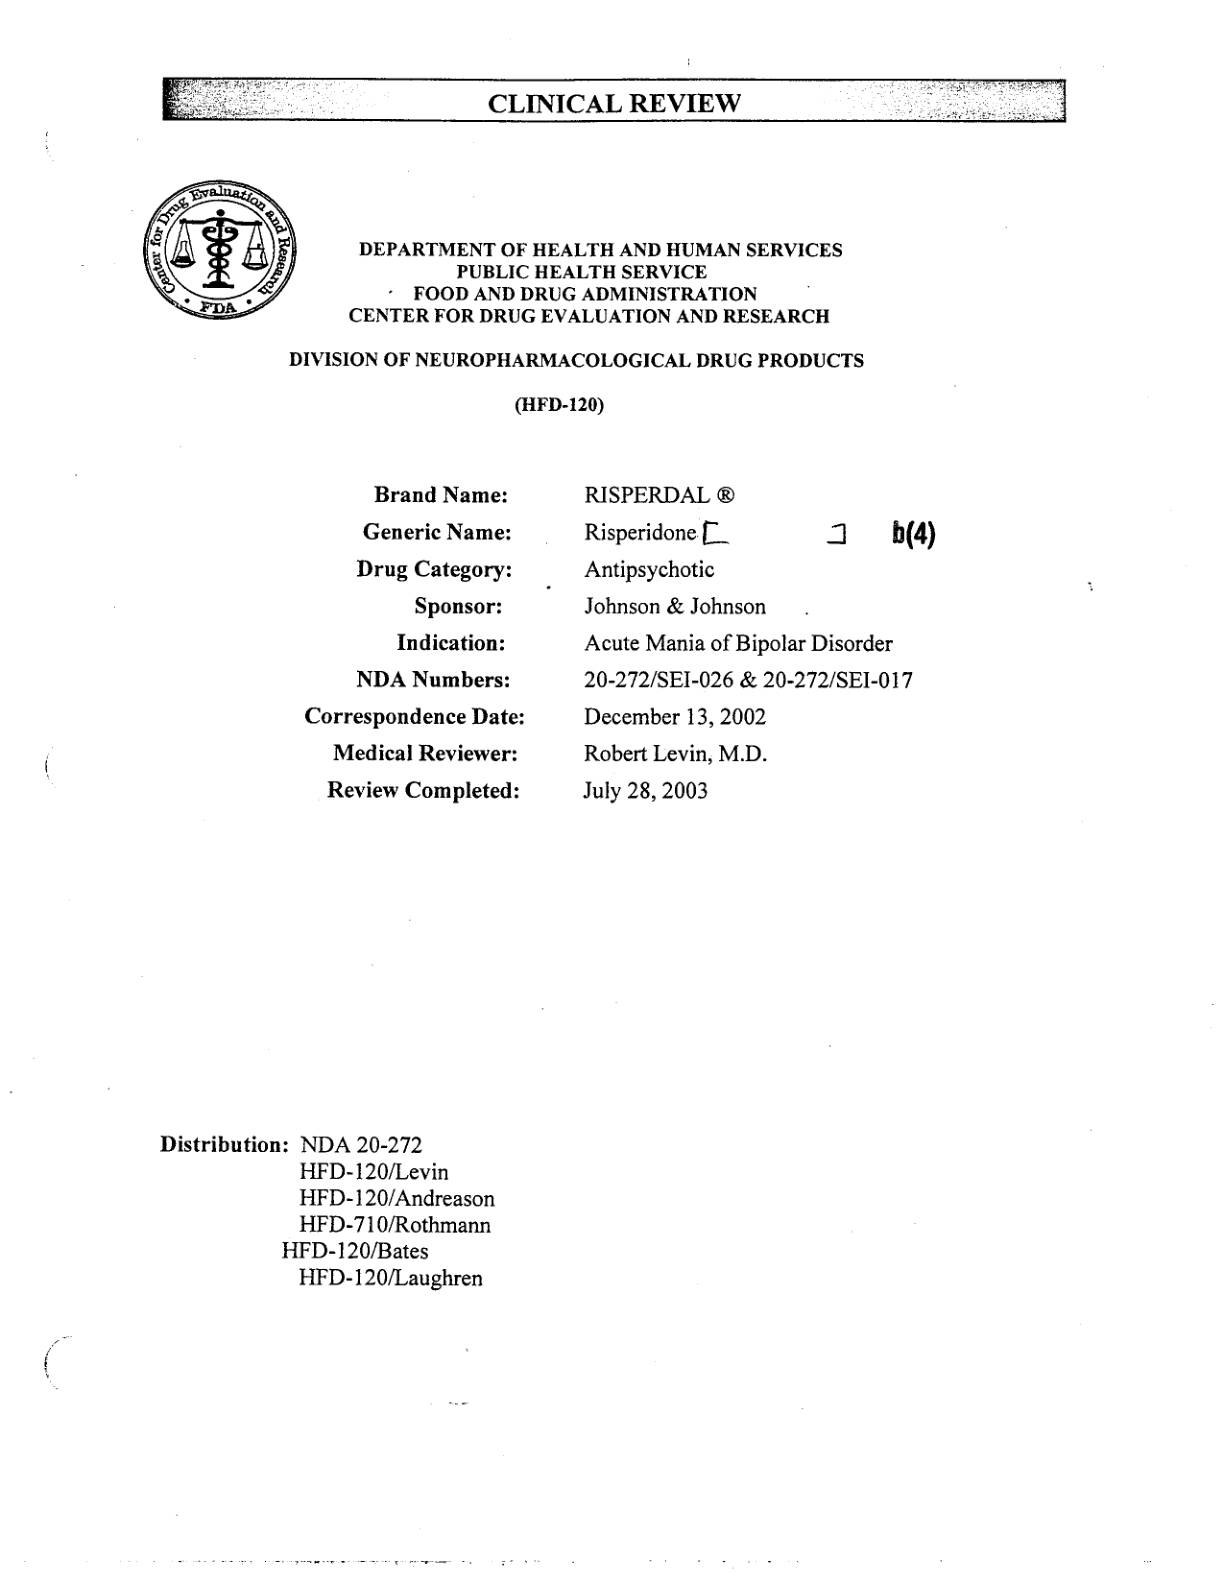nolines: (302, 482, 941, 803)
